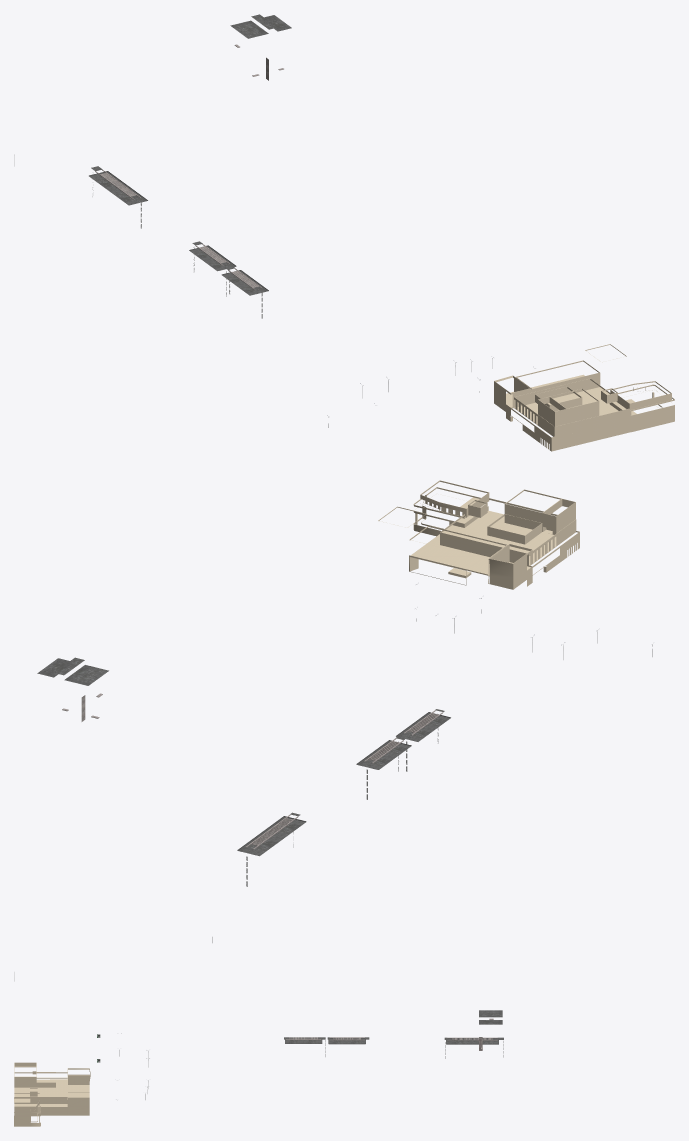
File: NoLod_8.glb
3 views of the same model, one above another, from view 1: azimuth 30°, elevation 25°; view 2: azimuth 150°, elevation 25°; view 3: azimuth 270°, elevation 25° (orthographic). The views are drawn at different scales.
Visible parts, largest first — view 1: rtc; view 2: rtc; view 3: rtc.
Boxes of the visible parts, x1=… form: rtc: x1=14, y1=14, x2=674, y2=451; rtc: x1=14, y1=480, x2=654, y2=981; rtc: x1=14, y1=1010, x2=503, y2=1126.
Size of the model in its own units: 272 by 141 by 886.
5 materials, 5 textured.
